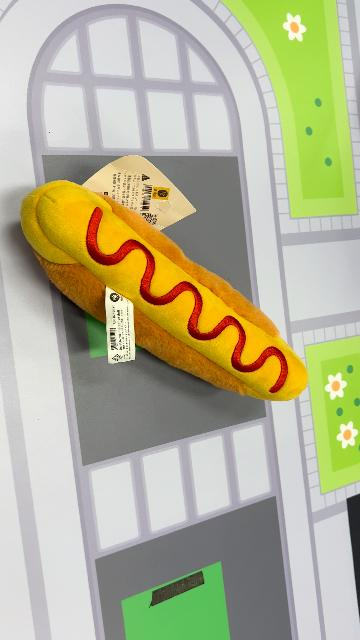hotdog: (20, 178, 310, 404)
